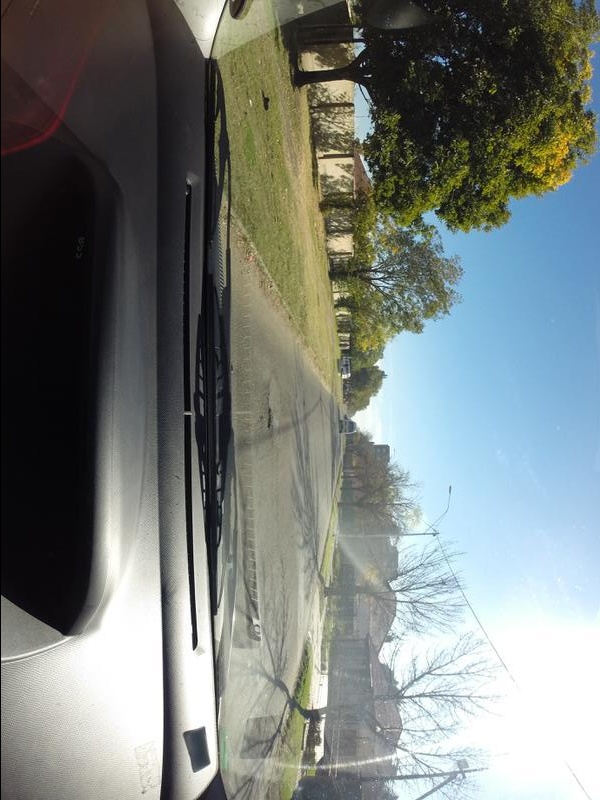pothole: (264, 397, 272, 432)
